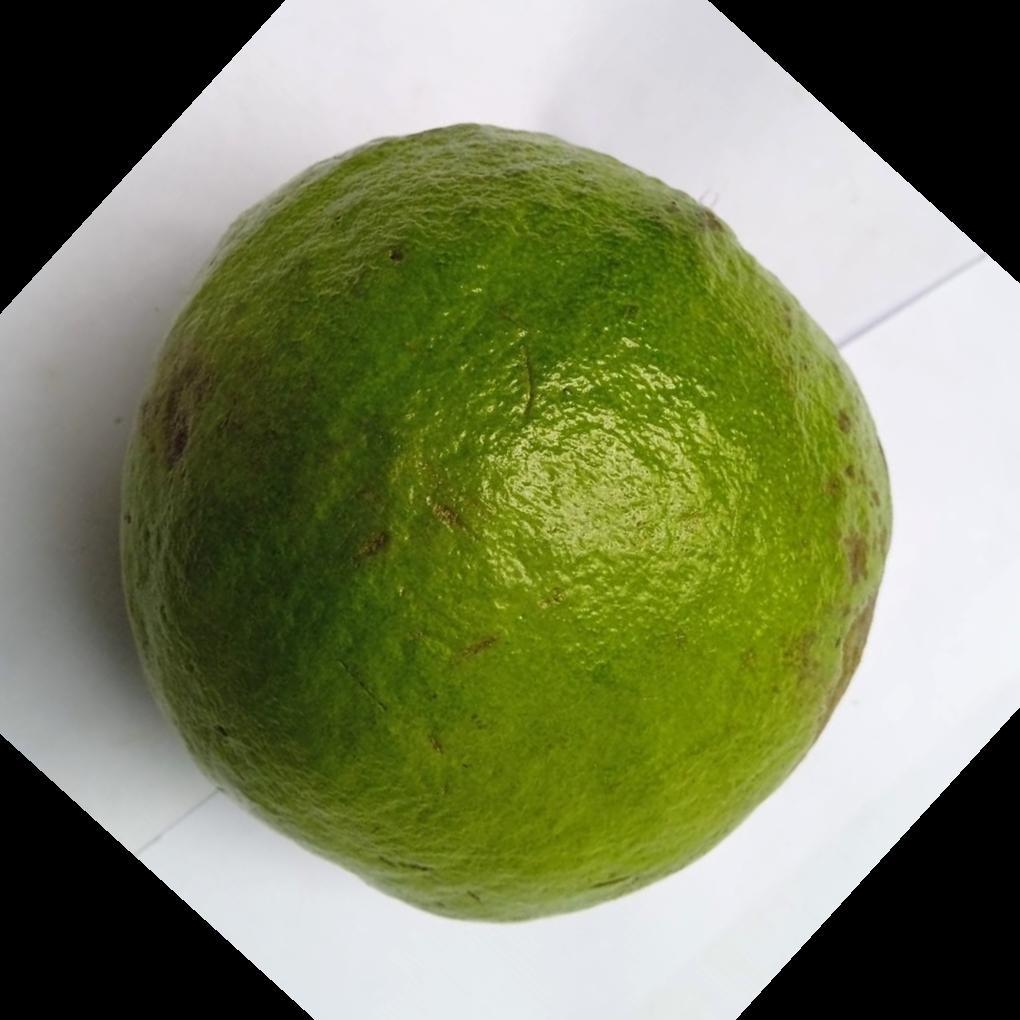FreshGuava: (117, 122, 896, 929)
